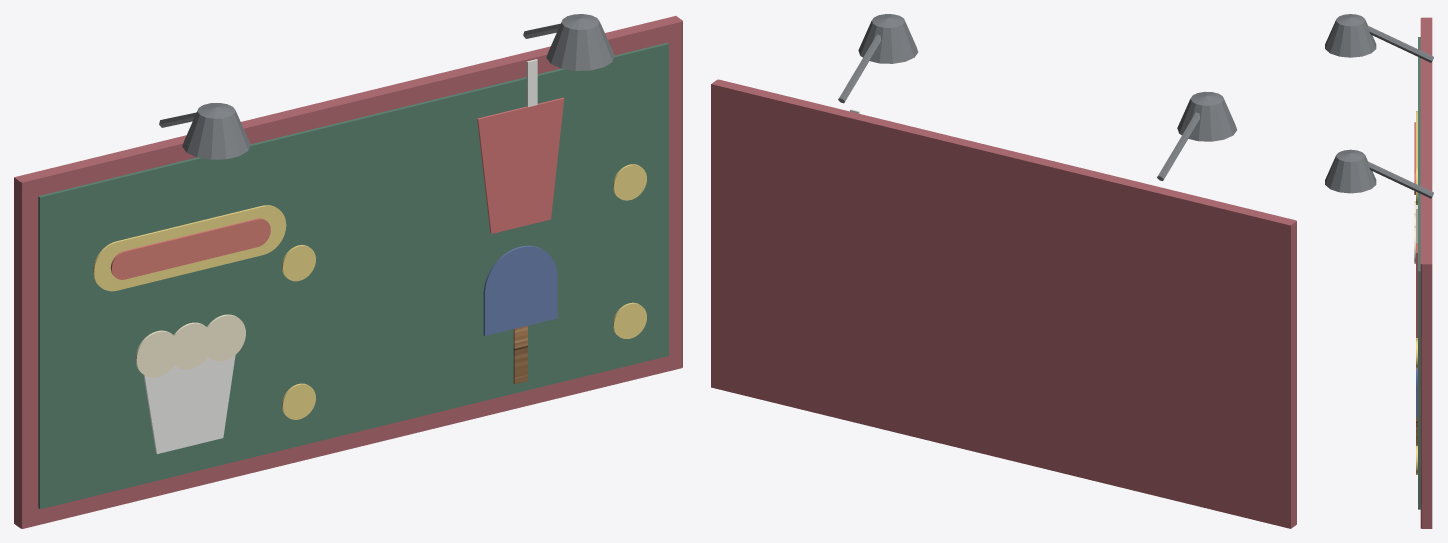
The model's file is menu_board.glb.
The picture shows the model from 3 angles, left to right: view 1: azimuth 30°, elevation 25°; view 2: azimuth 150°, elevation 25°; view 3: azimuth 270°, elevation 25°; orthographic projection. The views are drawn at different scales.
Parts seen in each view (by area): view 1: menu_board_board, menu_board_trim, menu_board_flag_r, menu_board_food_y, menu_board_flag_w, menu_board_steel_d, menu_board_flag_b, menu_board_food_r, menu_board_pop, menu_board_wood; view 2: menu_board_trim, menu_board_steel_d; view 3: menu_board_trim, menu_board_steel_d, menu_board_board, menu_board_food_y, menu_board_flag_r.
Part boxes in pixels (left/top/right/bottom): menu_board_board: left=38, top=43, right=668, bottom=509; menu_board_trim: left=14, top=16, right=682, bottom=528; menu_board_flag_r: left=477, top=97, right=564, bottom=233; menu_board_food_y: left=93, top=164, right=646, bottom=419; menu_board_flag_w: left=143, top=59, right=537, bottom=453; menu_board_steel_d: left=159, top=14, right=614, bottom=159; menu_board_flag_b: left=483, top=245, right=557, bottom=335; menu_board_food_r: left=110, top=218, right=270, bottom=279; menu_board_pop: left=135, top=314, right=245, bottom=377; menu_board_wood: left=513, top=325, right=527, bottom=384; menu_board_trim: left=711, top=79, right=1296, bottom=528; menu_board_steel_d: left=838, top=14, right=1236, bottom=180; menu_board_trim: left=1420, top=17, right=1432, bottom=528; menu_board_steel_d: left=1325, top=14, right=1433, bottom=198; menu_board_board: left=1418, top=37, right=1420, bottom=509; menu_board_food_y: left=1416, top=111, right=1417, bottom=474; menu_board_flag_r: left=1416, top=243, right=1417, bottom=337.
Size of the model in its own units: 2 by 1.21 by 0.3725.
Materials: 11 (1 with a texture image).
